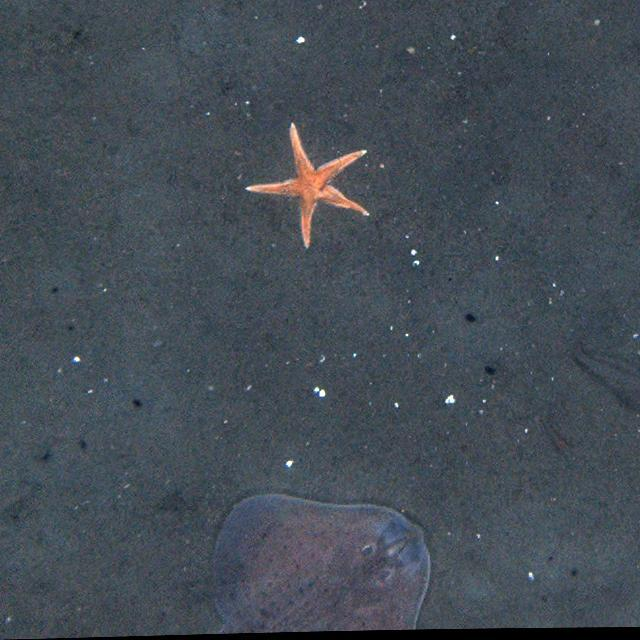skate: (202, 491, 434, 631)
